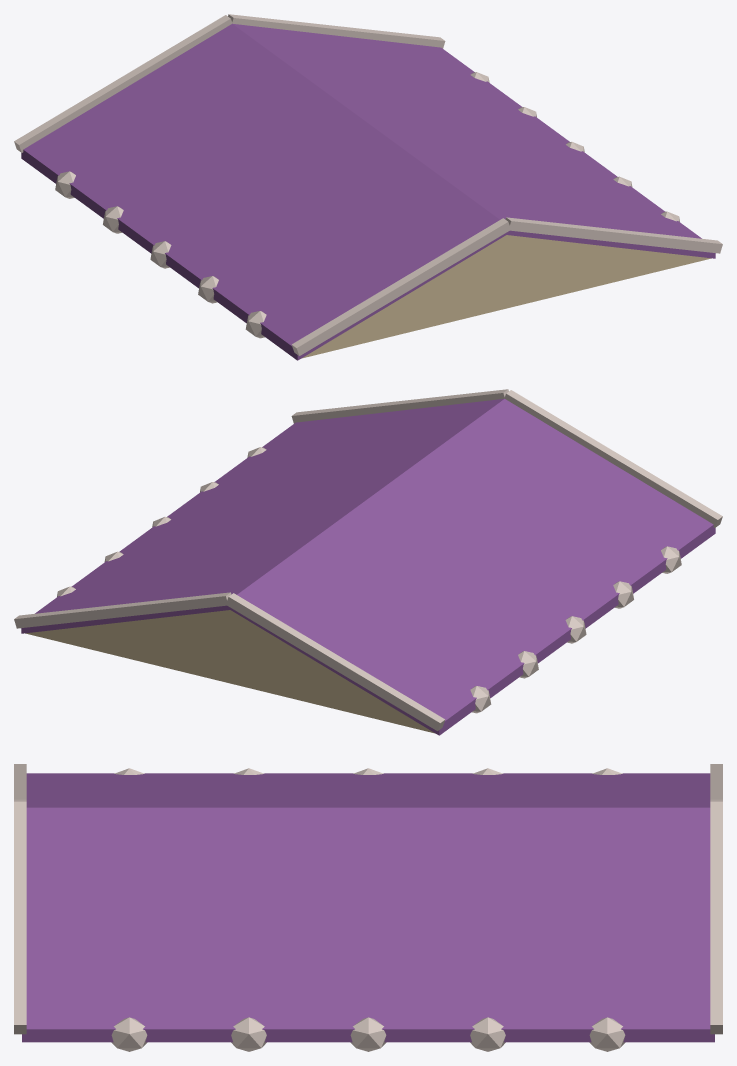
Rendered from Candyland_SweetShopRoof_Standard.glb.
3 views of the same model, one above another, from view 1: azimuth 30°, elevation 25°; view 2: azimuth 150°, elevation 25°; view 3: azimuth 270°, elevation 25° (orthographic). The views are drawn at different scales.
Visible parts, largest first — view 1: Candyland_SweetShopRoof_Standard; view 2: Candyland_SweetShopRoof_Standard; view 3: Candyland_SweetShopRoof_Standard.
Part boxes in pixels (<box>): Candyland_SweetShopRoof_Standard: <box>14,14,722,360</box>; Candyland_SweetShopRoof_Standard: <box>14,389,722,735</box>; Candyland_SweetShopRoof_Standard: <box>14,764,722,1051</box>.
Size of the model in its own units: 7.83 by 1.76 by 8.9.
